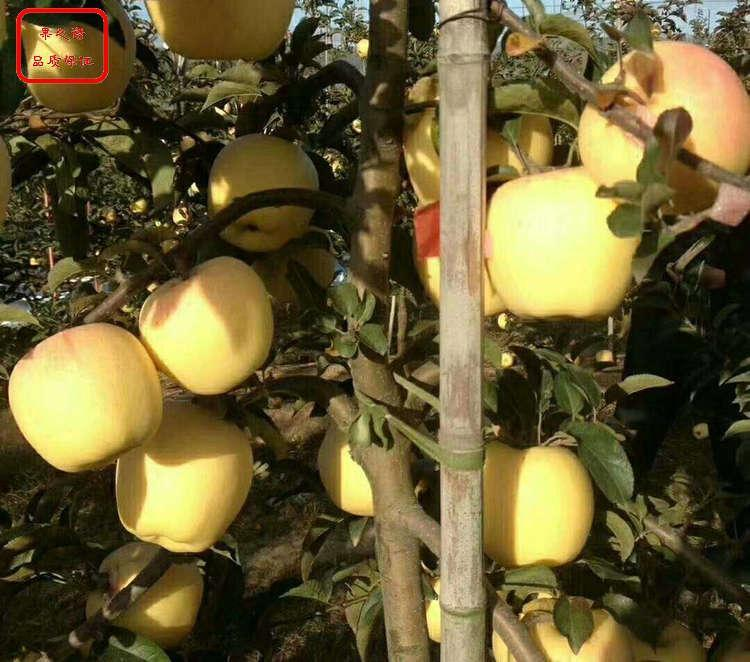apple: (578, 40, 748, 210), (484, 166, 646, 322), (7, 323, 163, 474), (115, 397, 253, 555), (136, 256, 276, 397), (483, 440, 598, 566), (204, 132, 319, 253)
